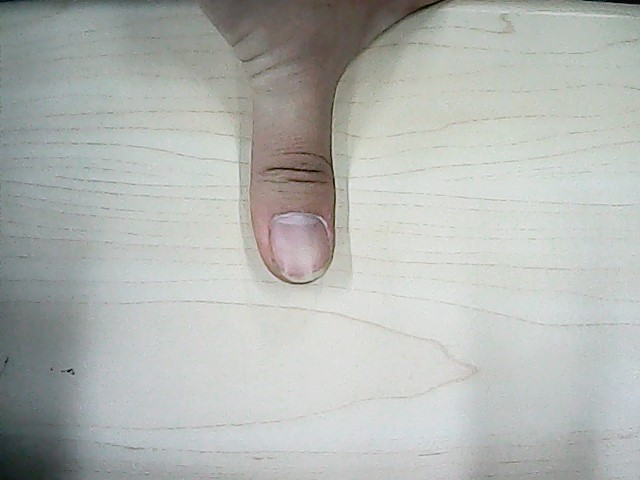nail: (266, 209, 333, 286)
